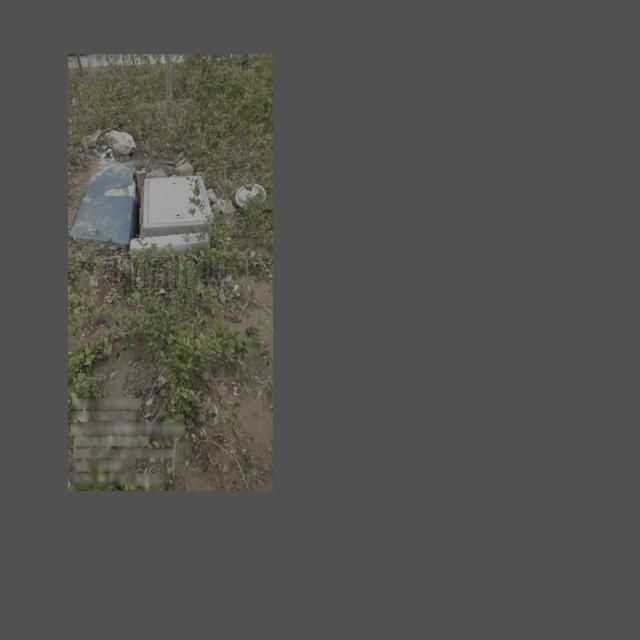circle: (128, 170, 218, 249)
